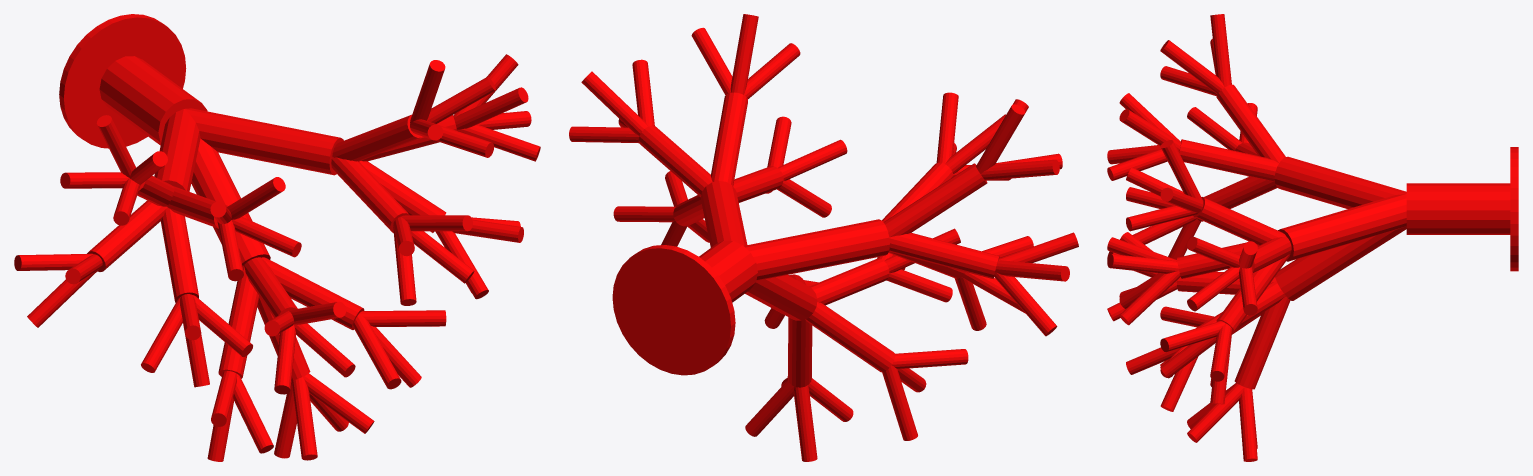
Rendered from CutFractal.obj.
The picture shows the model from 3 angles, left to right: view 1: azimuth 30°, elevation 25°; view 2: azimuth 150°, elevation 25°; view 3: azimuth 270°, elevation 25°; orthographic projection. The views are drawn at different scales.
Parts seen in each view (by area): view 1: red_fractal; view 2: red_fractal; view 3: red_fractal.
Boxes of the visible parts, bbox=[...] form: red_fractal: bbox=[14, 14, 540, 461]; red_fractal: bbox=[569, 14, 1078, 461]; red_fractal: bbox=[1107, 14, 1518, 461].
Bounding box in the file's own units: 0.1265 × 0.095 × 0.1.
